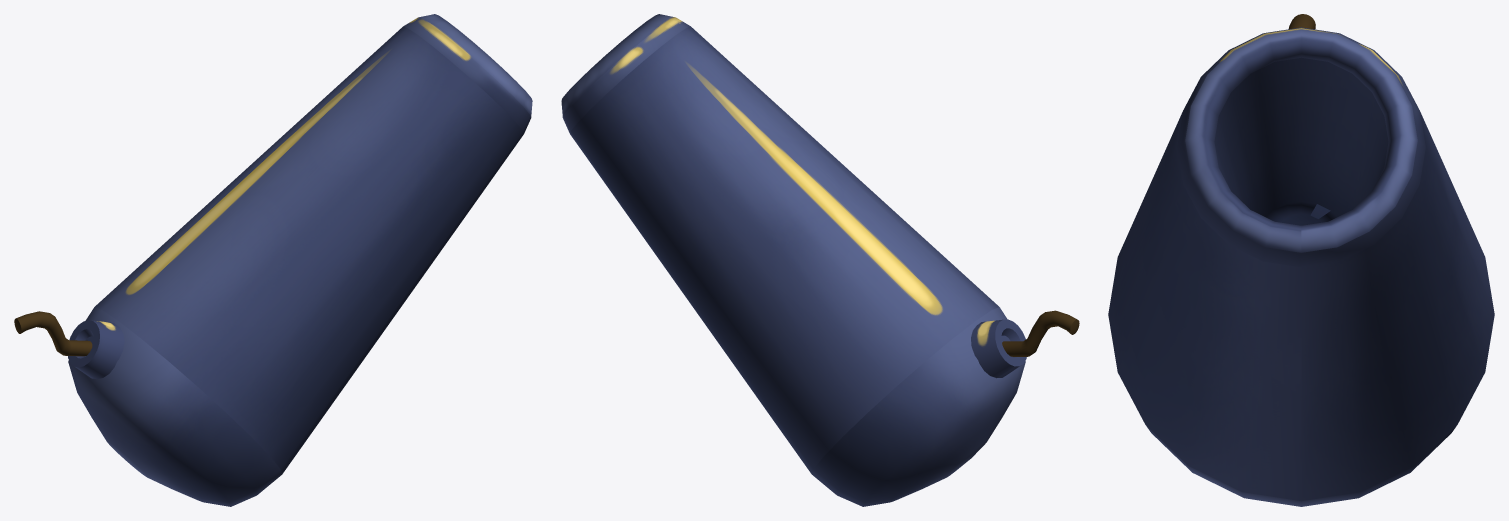
File: ANI_CANNONTEST.fbx
3 renders of one model, left to right at view 1: azimuth 30°, elevation 25°; view 2: azimuth 150°, elevation 25°; view 3: azimuth 270°, elevation 25°, orthographic. The views are drawn at different scales.
Visible parts, largest first — view 1: polySurface8; view 2: polySurface8; view 3: polySurface8.
Part boxes in pixels (box(x1,y1,x2,y2)): polySurface8: box(14, 14, 532, 506); polySurface8: box(561, 14, 1079, 506); polySurface8: box(1108, 14, 1494, 506).
Size of the model in its own units: 1.88 by 1.49 by 0.8162.
